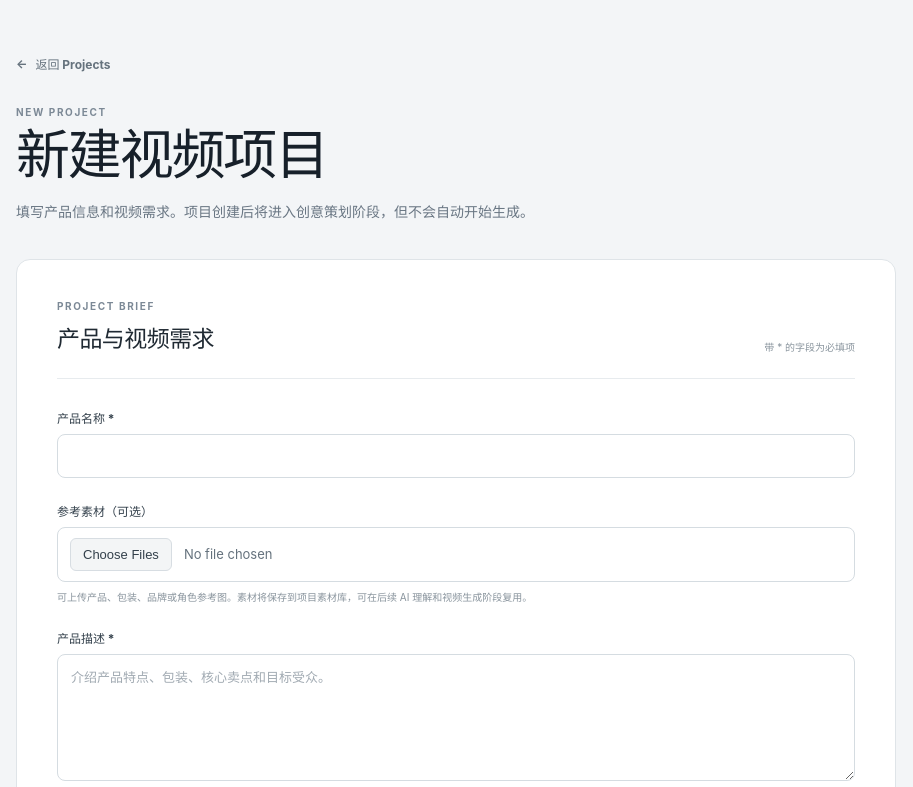
Test: CreateProjectPage › maps INVALID_VIDEO_DURATION to the duration field
Type "  测试柠檬  " into the field labelled "产品名称 *" at (456, 456), box [57, 434, 855, 478]
Type "  新鲜柠檬饮料  " into the text box labelled "产品描述 *" at (456, 717), box [57, 654, 855, 781]
(page scrolled)
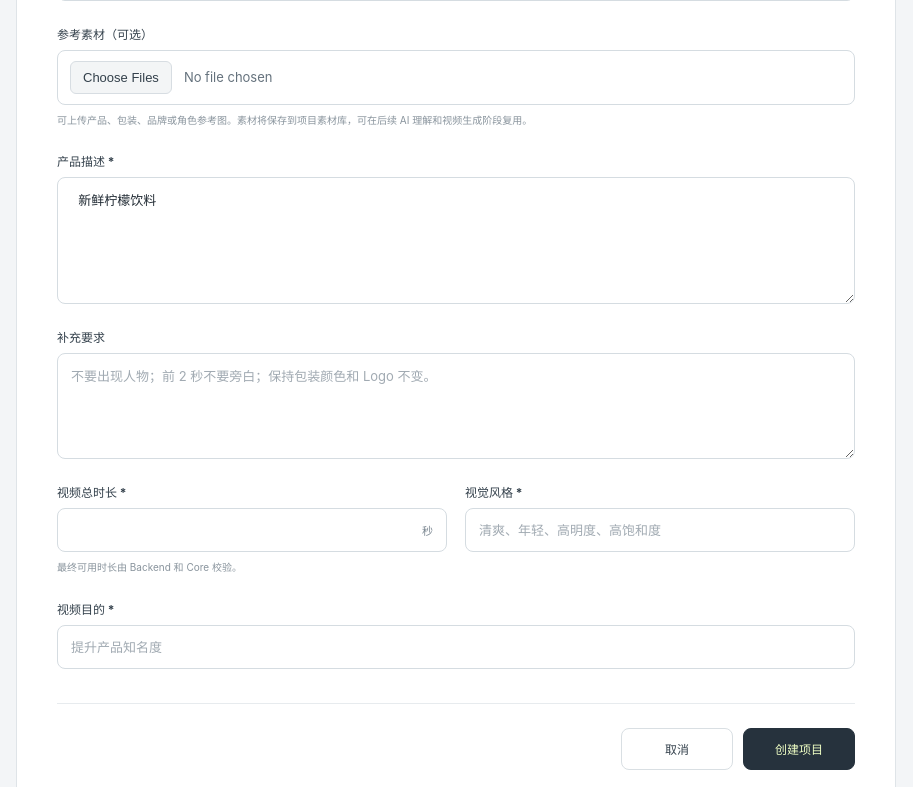
Type "  不要出现人物  " into the text box labelled "补充要求" at (456, 406), box [57, 353, 855, 459]
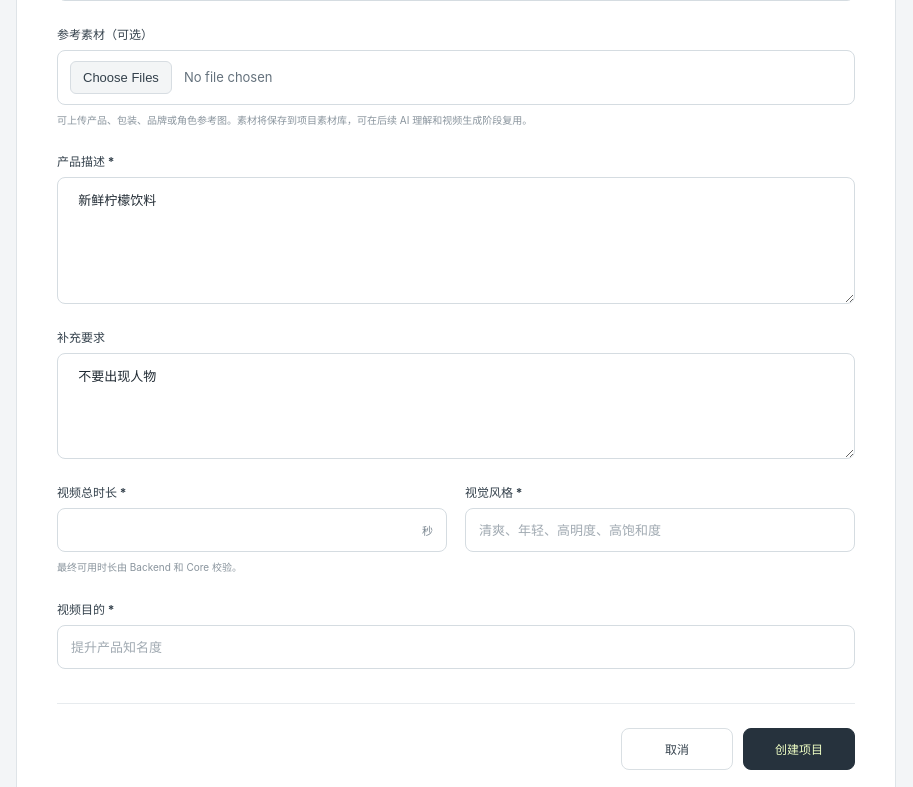
Type "18" into the number field labelled "视频总时长 *" at (252, 530), box [57, 508, 447, 552]
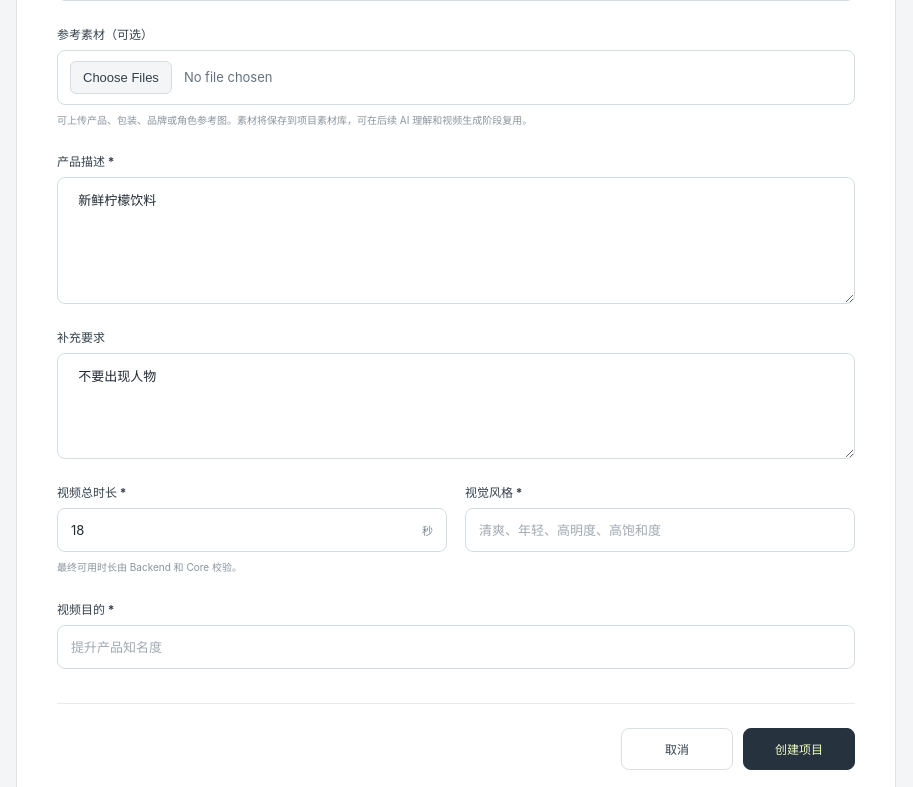
Type "  清爽、年轻  " into the field labelled "视觉风格 *" at (660, 530), box [465, 508, 855, 552]
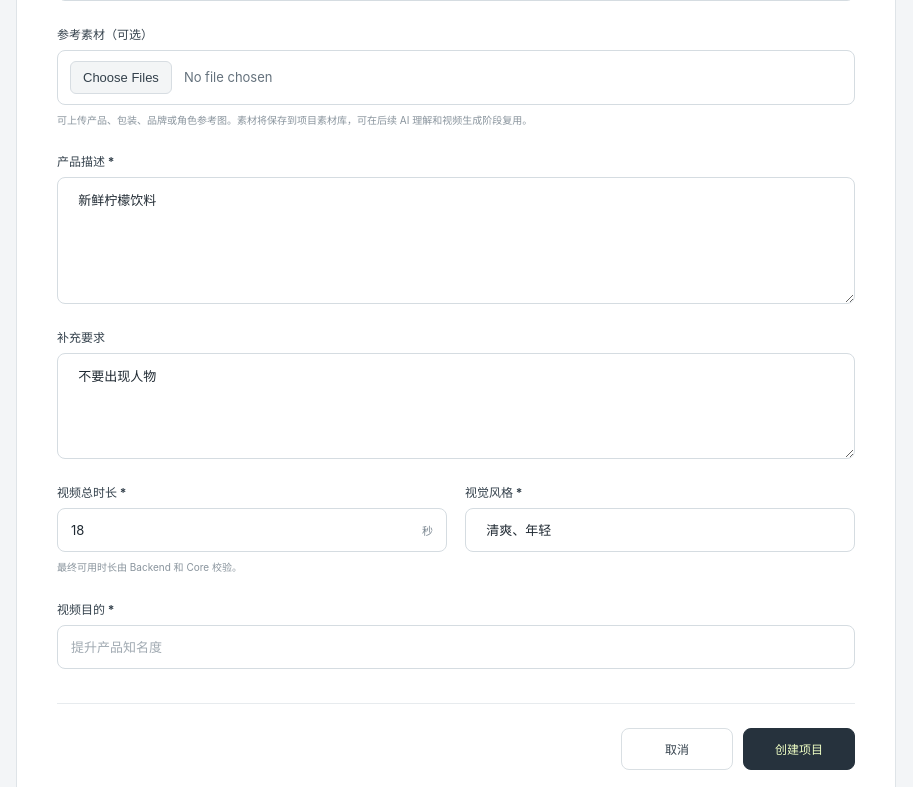
Type "  提升产品知名度  " into the field labelled "视频目的 *" at (456, 647), box [57, 625, 855, 669]
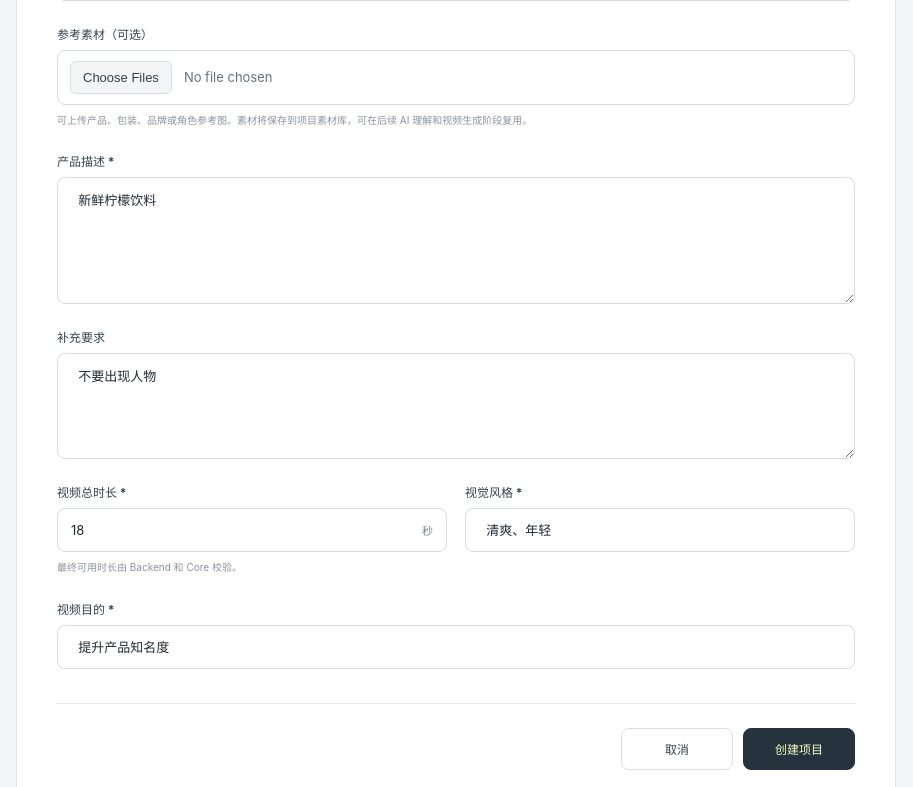
Click the button "创建项目" at (799, 749), box [743, 728, 855, 770]
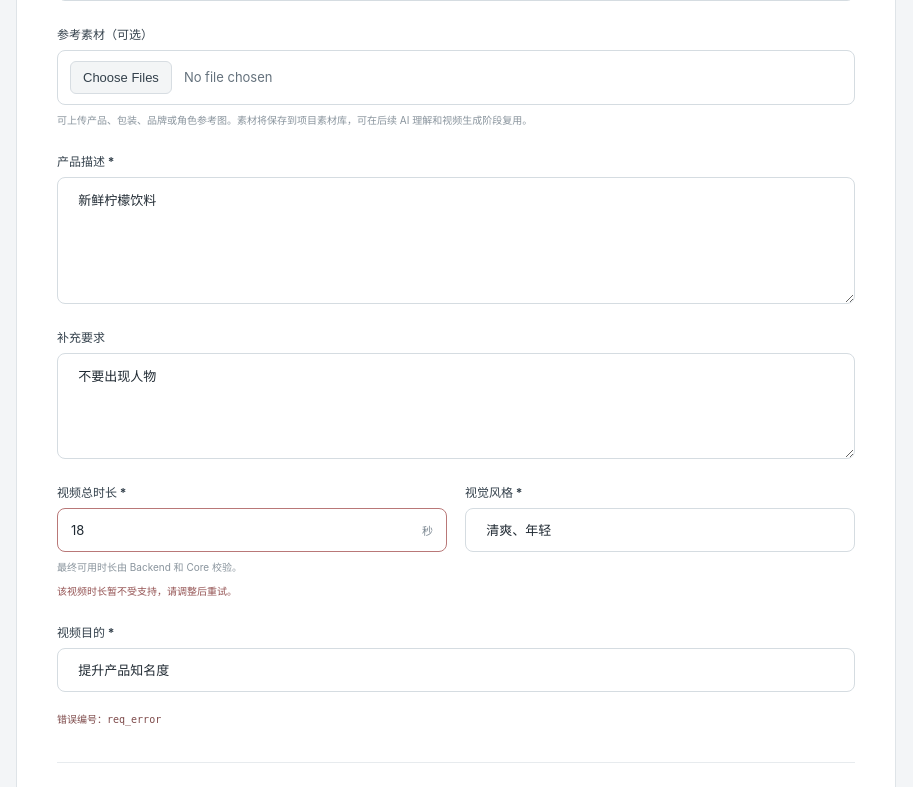
Expected: the text "该视频时长暂不受支持，请调整后重试。" is shown, [57, 585, 237, 597]
